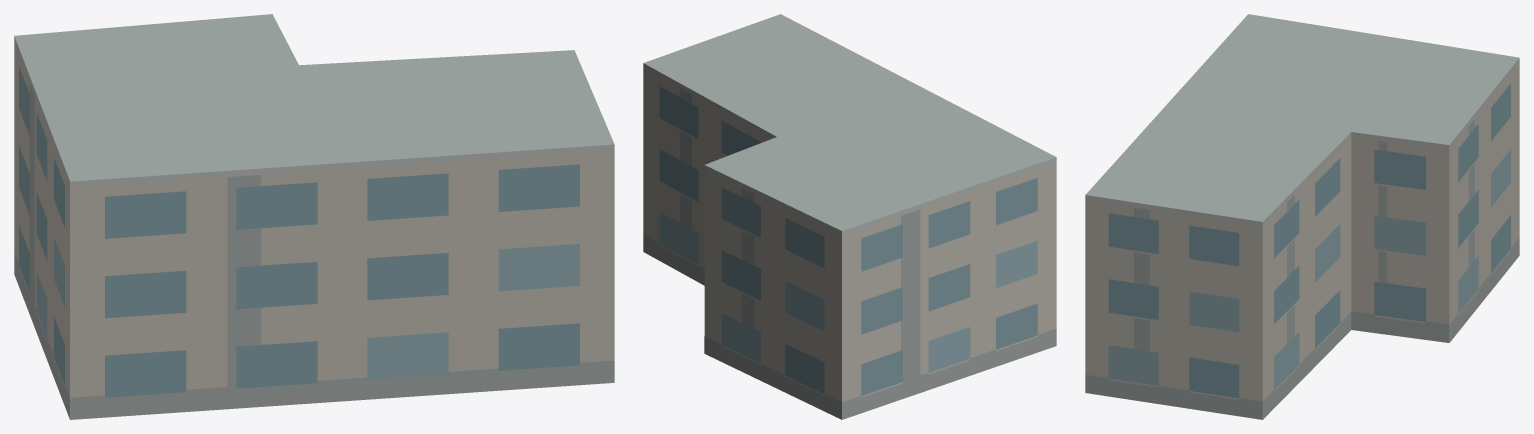
File: survey-upis-33039817.glb
3 renders of one model, left to right at view 1: azimuth 30°, elevation 25°; view 2: azimuth 150°, elevation 25°; view 3: azimuth 270°, elevation 25°, orthographic. The views are drawn at different scales.
Parts seen in each view (by area): view 1: survey-upis-33039817.tmp; view 2: survey-upis-33039817.tmp; view 3: survey-upis-33039817.tmp.
Part boxes in pixels (<box>): survey-upis-33039817.tmp: <box>14,14,614,419</box>; survey-upis-33039817.tmp: <box>643,14,1056,419</box>; survey-upis-33039817.tmp: <box>1085,14,1519,419</box>.
Size of the model in its own units: 20.63 by 9.15 by 18.2.
